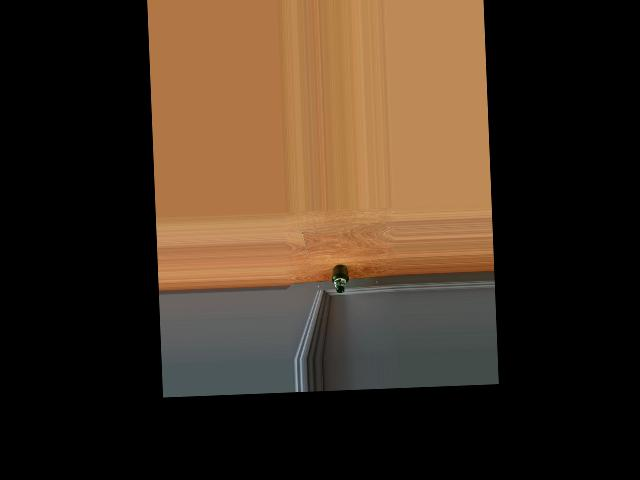beer: (331, 264, 349, 293)
